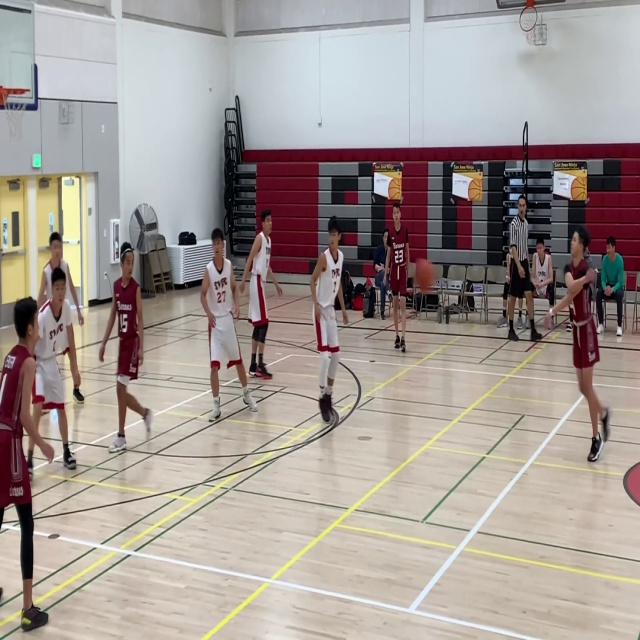Basketball: (623, 461, 640, 507), (414, 258, 434, 291)
